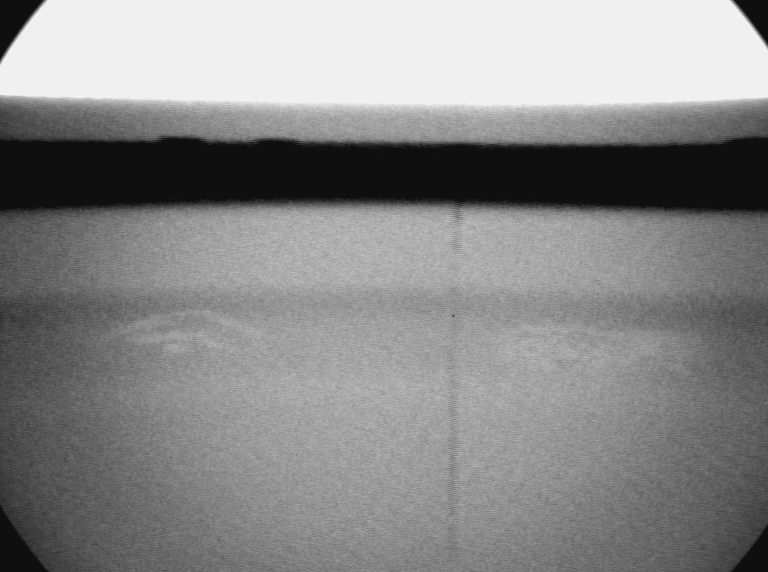defect: (502, 311, 709, 385)
